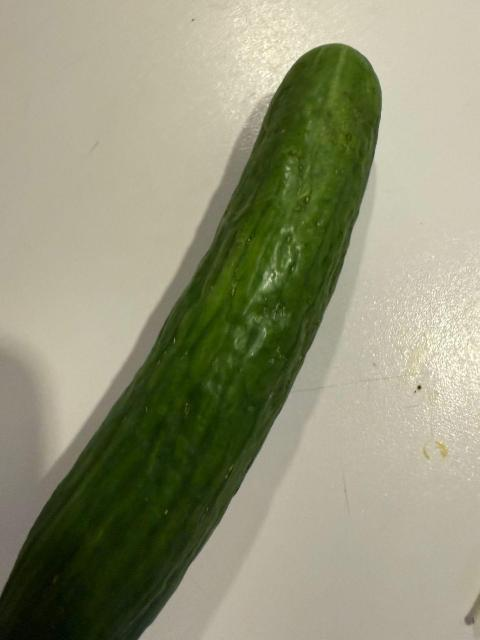Organik: (0, 37, 384, 640)
